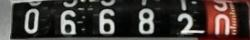digits: (172, 0, 200, 38), (211, 0, 233, 37), (59, 9, 77, 34), (98, 8, 115, 34), (138, 7, 154, 33), (24, 8, 39, 33)
